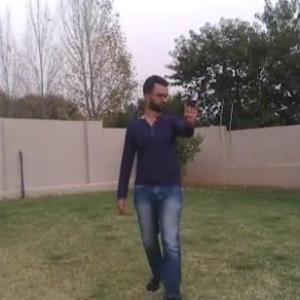takeoff-hand: (179, 87, 202, 132)
